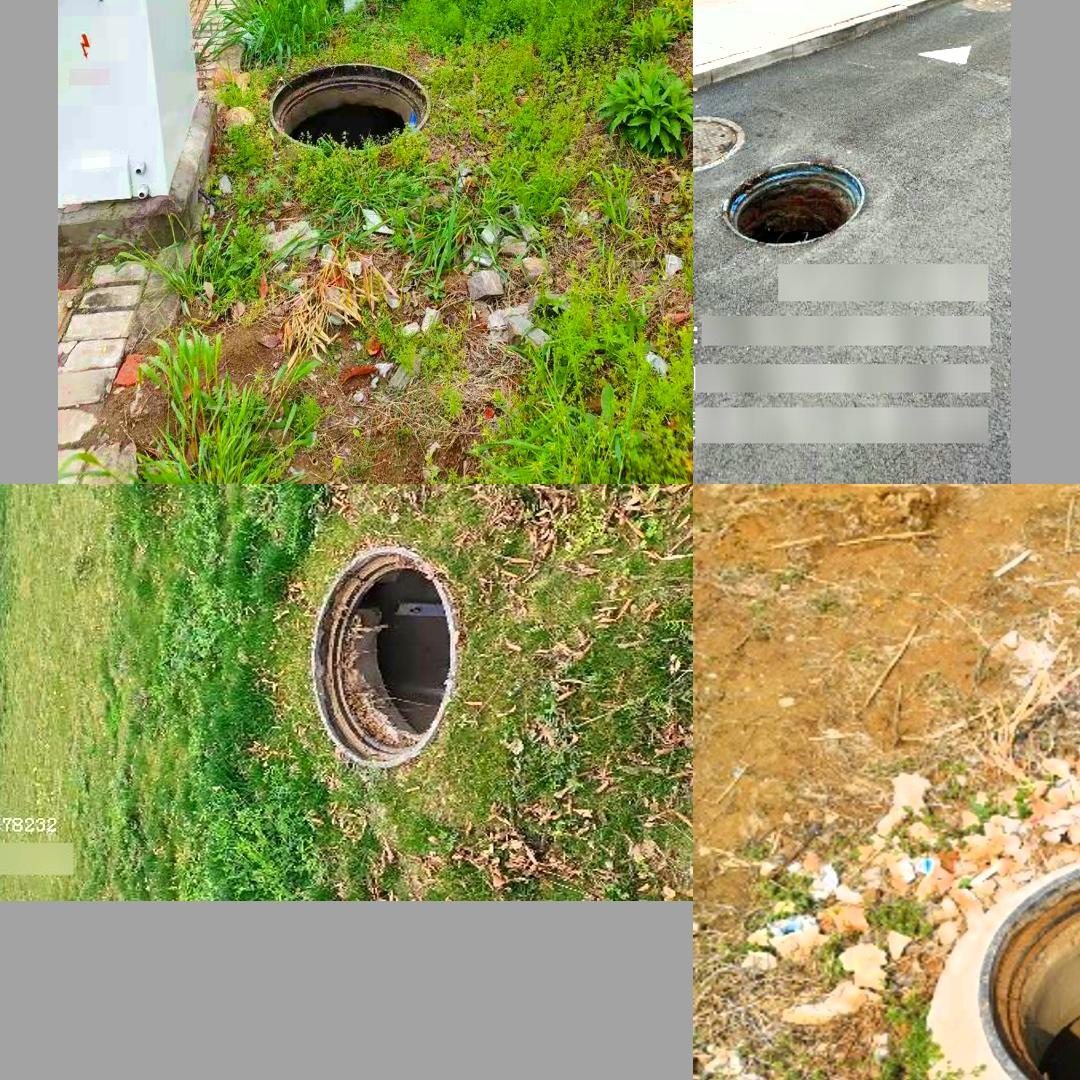lose: (309, 547, 456, 770), (977, 851, 1080, 1080), (260, 51, 438, 148), (722, 160, 866, 248)
